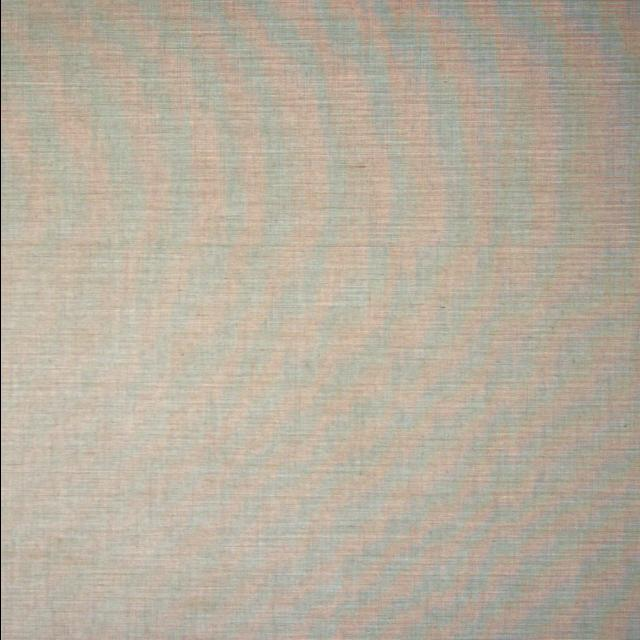dirty: (341, 165, 368, 169)
